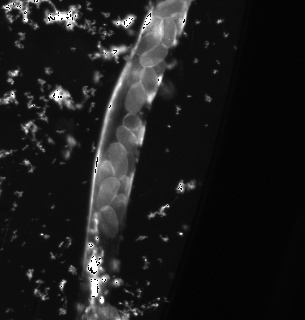embryo: (107, 141, 128, 179), (125, 81, 146, 114), (140, 43, 168, 67), (96, 177, 119, 206), (116, 126, 137, 156), (134, 33, 162, 55), (99, 206, 118, 238), (107, 194, 126, 225), (155, 0, 186, 19), (111, 176, 131, 205), (145, 14, 164, 44), (159, 18, 177, 48), (141, 66, 159, 95), (98, 160, 114, 182), (123, 113, 142, 131)
